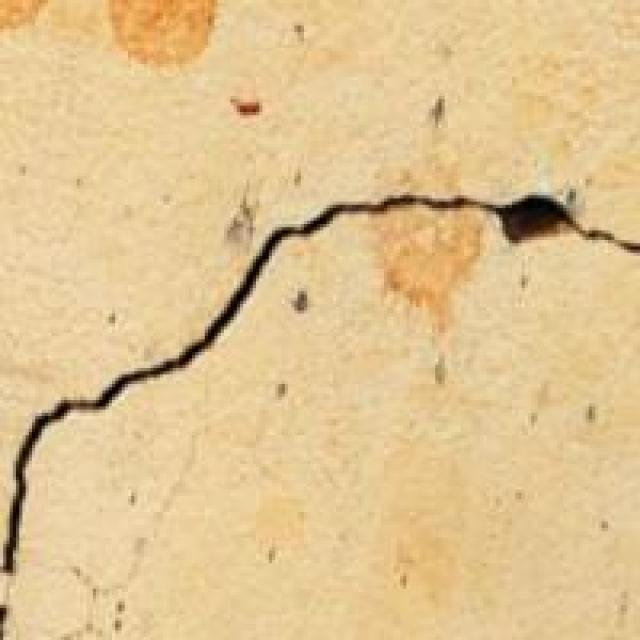crack: (0, 169, 637, 636)
